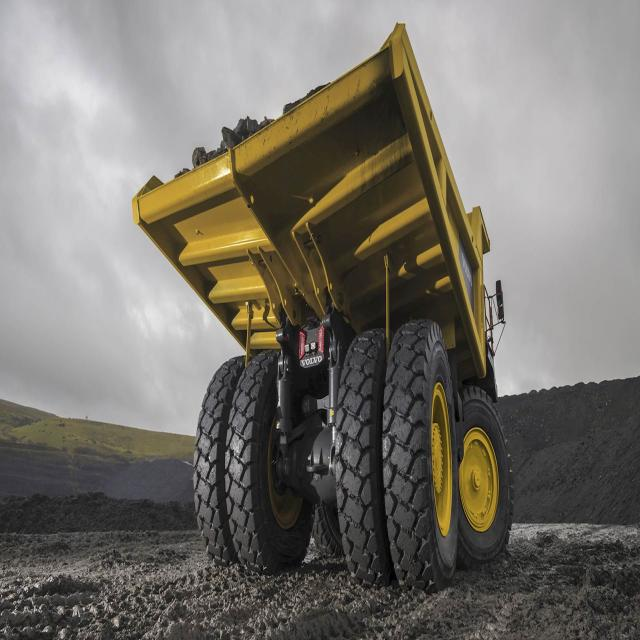dump_truck: (128, 18, 543, 594)
